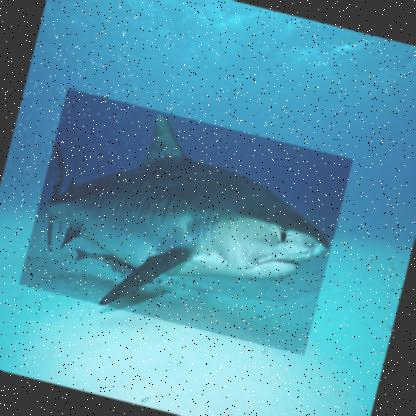tiger-shark: (17, 87, 352, 355)
